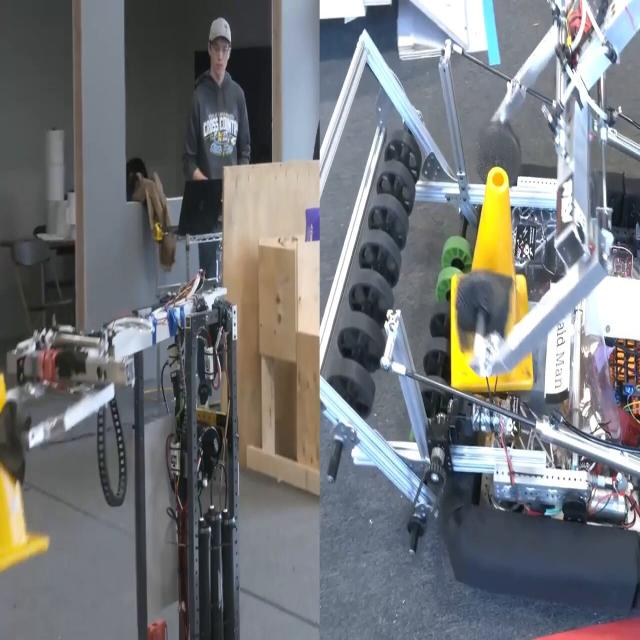frc_cone: (451, 159, 532, 397), (0, 362, 48, 588)
frc_cube: (304, 208, 324, 244)
